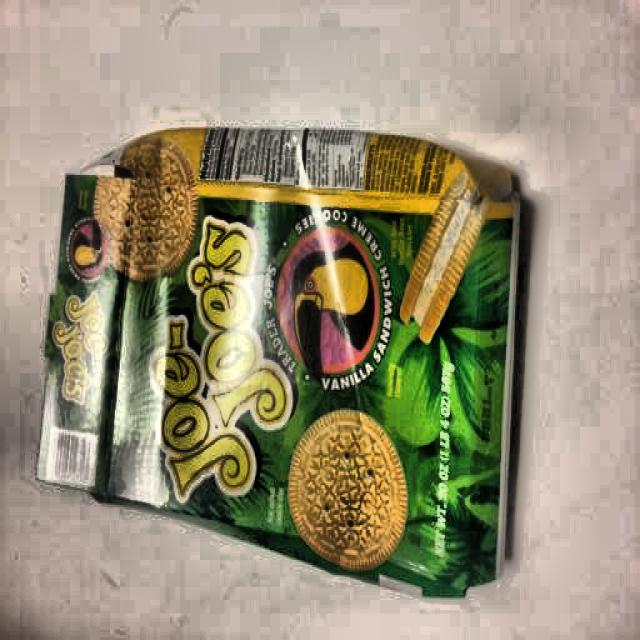paper: (46, 123, 519, 594)
